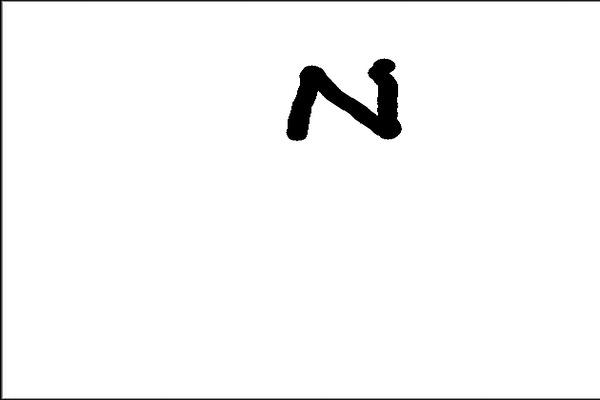N: (280, 52, 413, 147)
